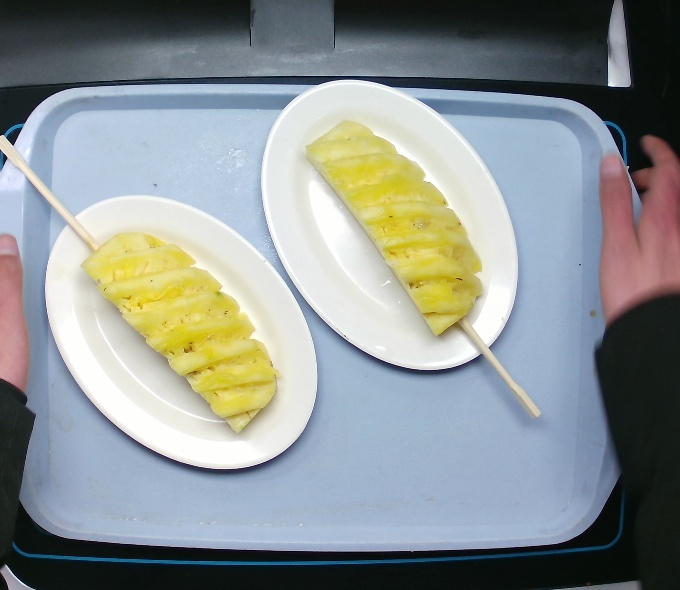wcq-BoLuo: (78, 225, 284, 437), (301, 113, 488, 338)
